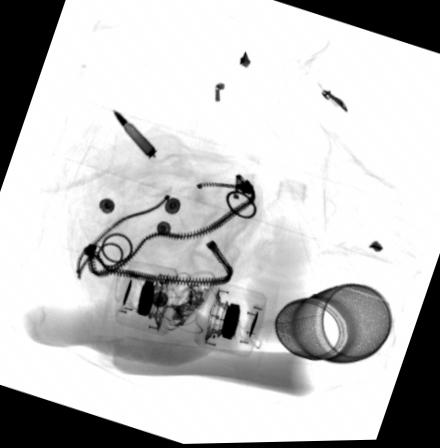Bullet: (111, 107, 157, 159)
